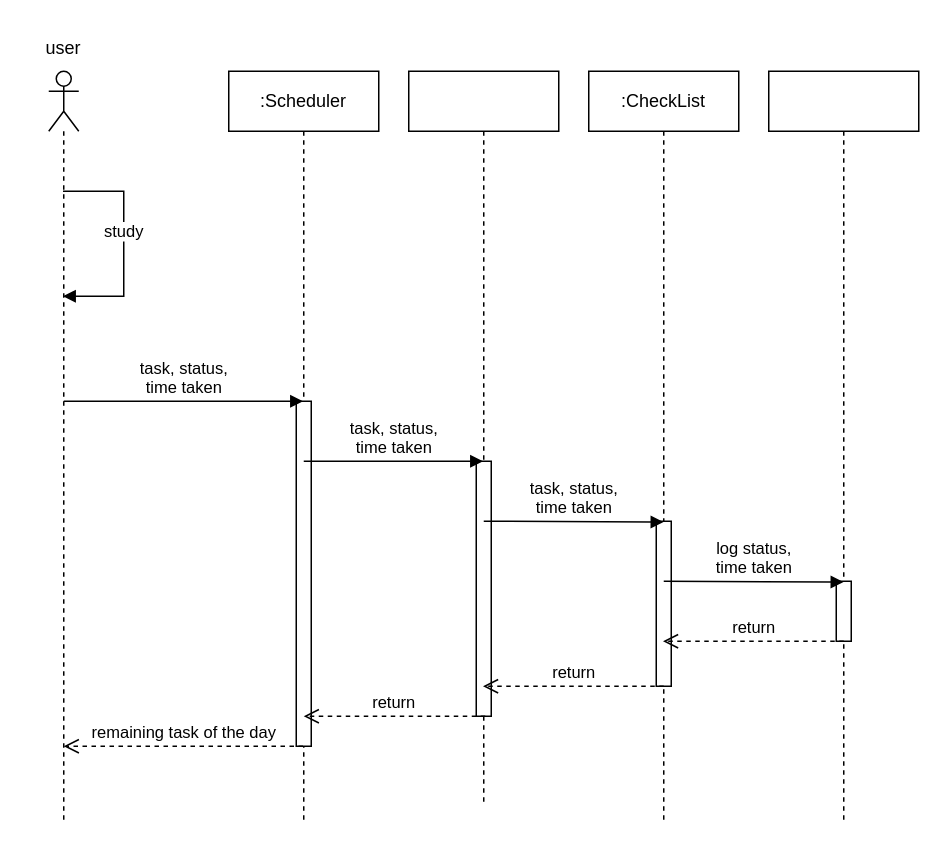
The diagram is 945 pixels wide and 848 high, and some of its shapes have lost their labels. Here are the shapes that lost their labels. From the top down, the box of each, then its label:
(407, 70, 559, 806): :Schedule
(767, 70, 919, 821): :Task
